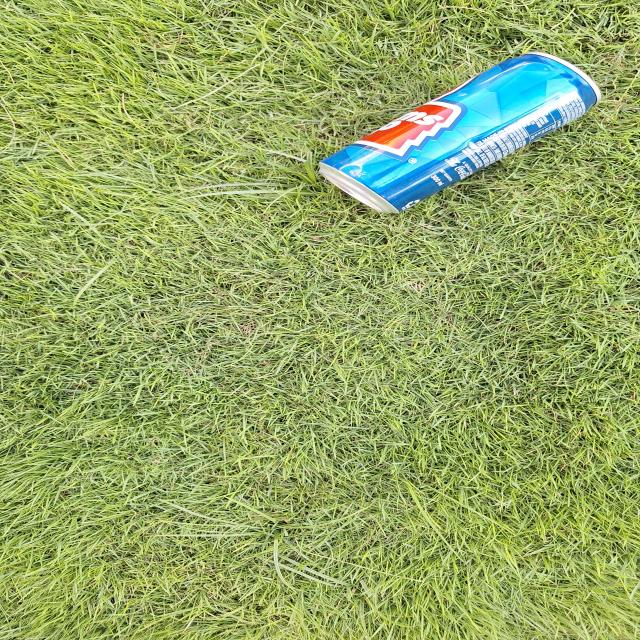Thums Up: (301, 49, 602, 215)
